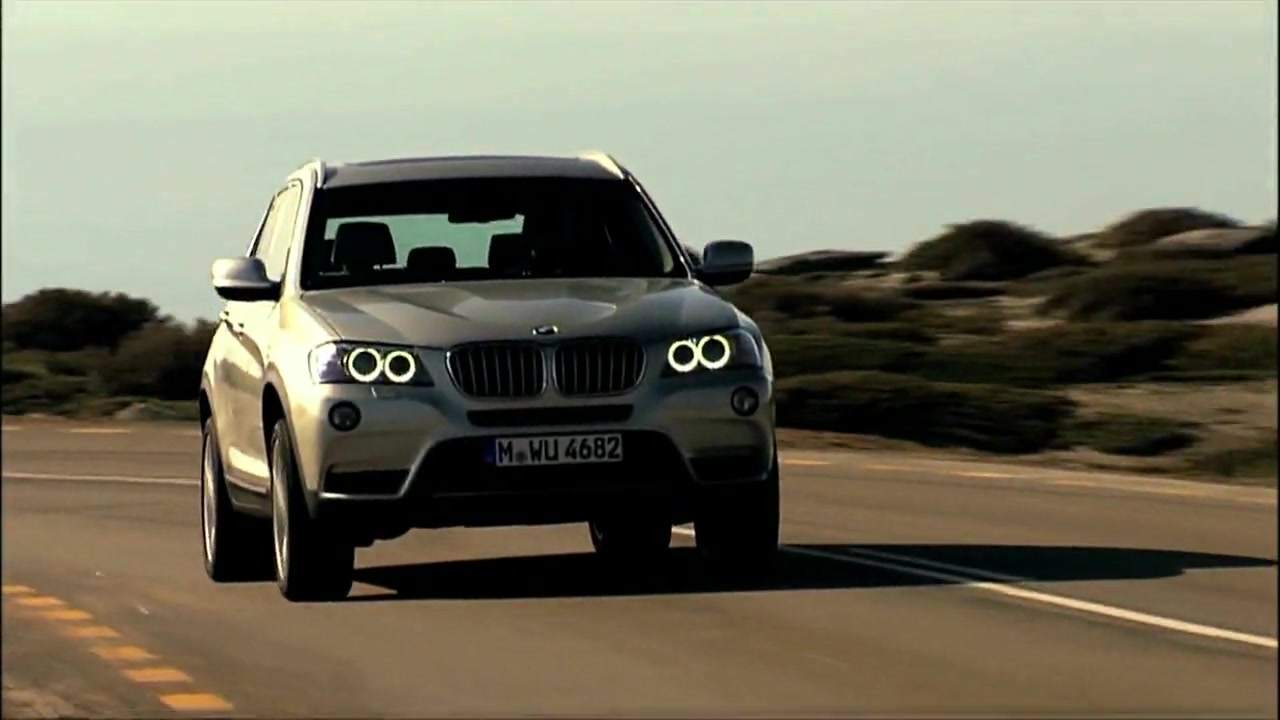car: (186, 147, 787, 605)
